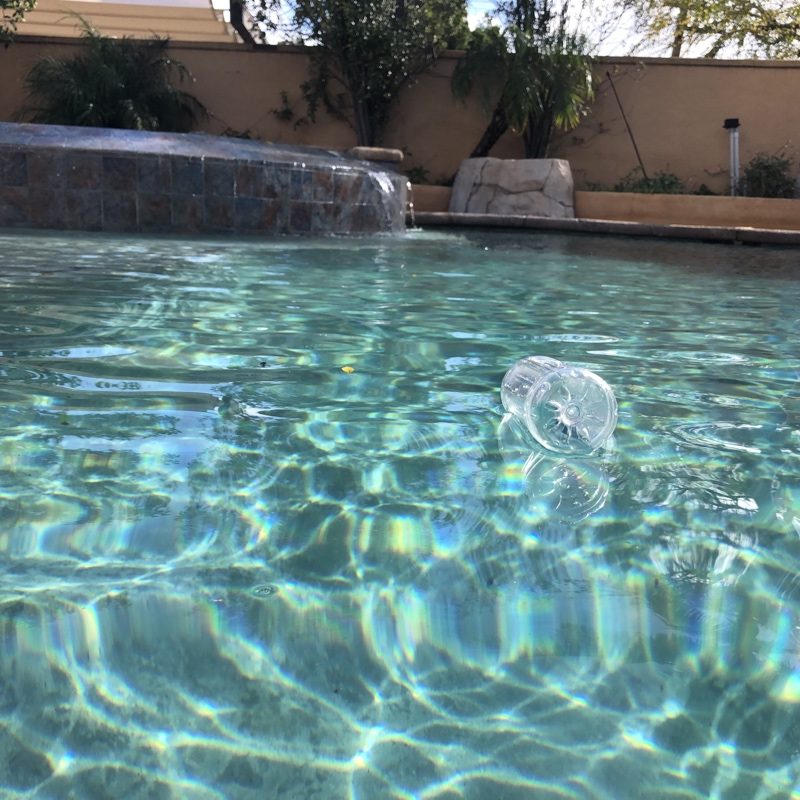Plastic Bottle: (496, 351, 620, 462)
